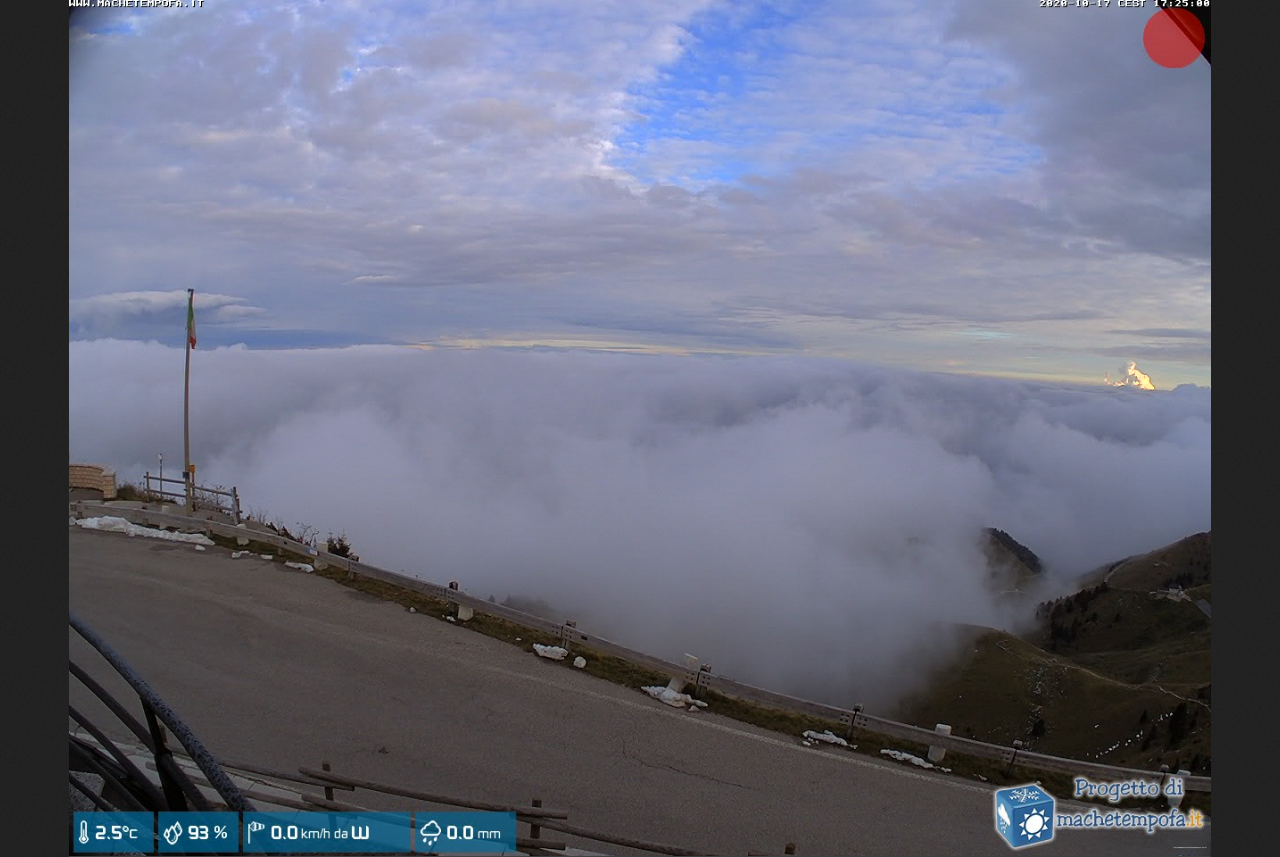no: (184, 291, 202, 348)
